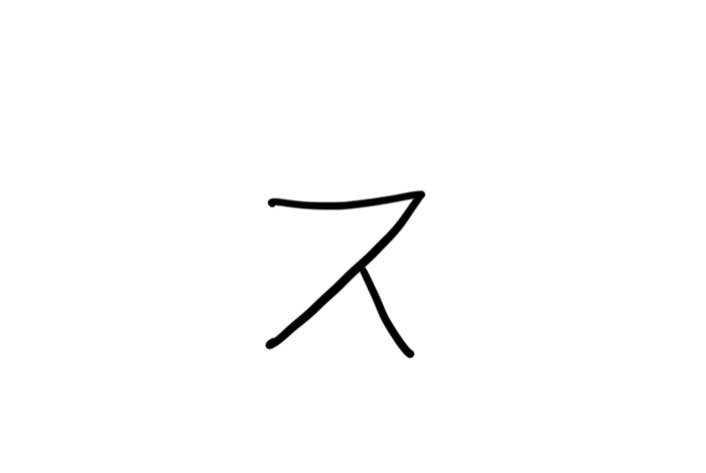su: (243, 185, 446, 364)
